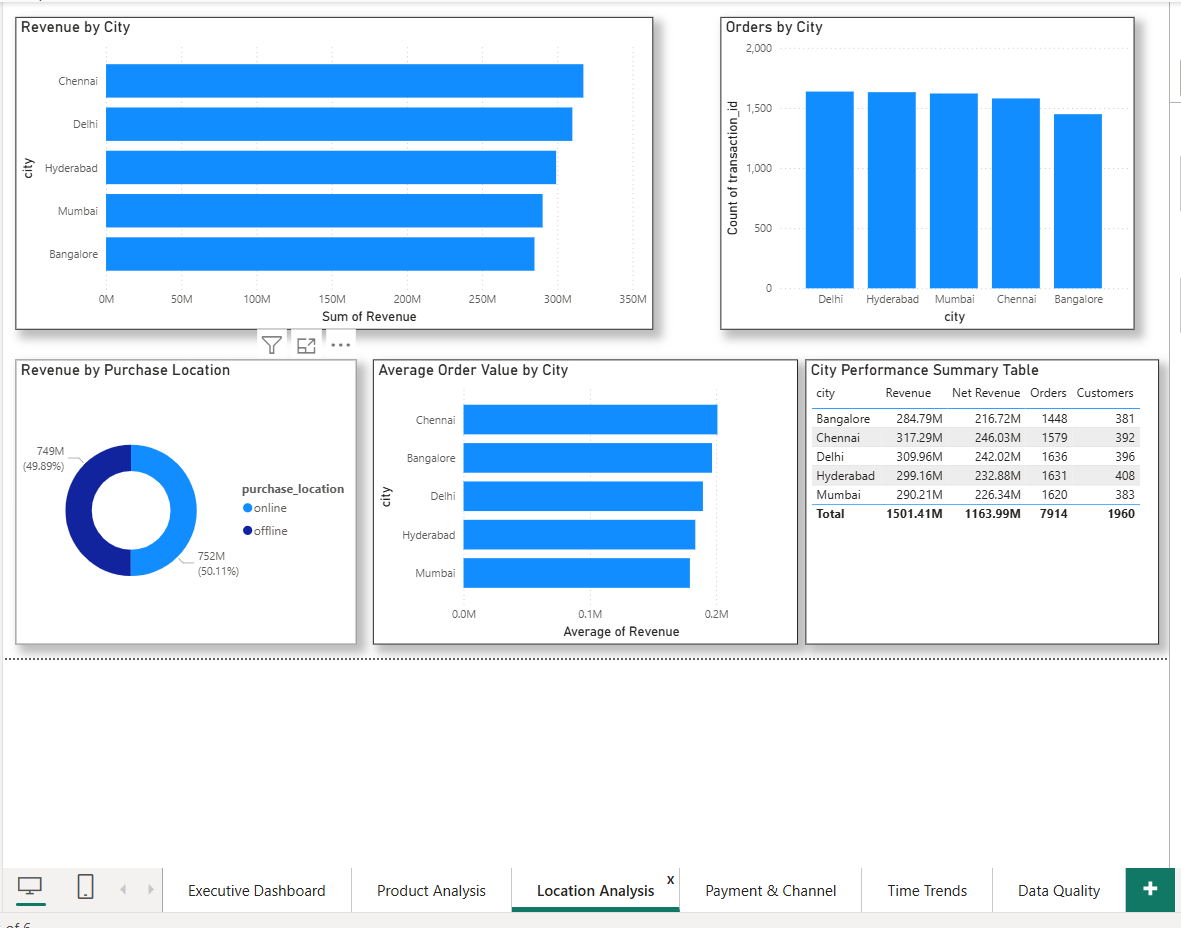

This screenshot's page, from the dashboard's own definition file:
{"tool":"powerbi","page":{"name":"Location Analysis","canvas":[1280,720],"ordinal":2},"visuals":[{"type":"clusteredBarChart","title":"Revenue by City","fields":{"Category":["retail_master_curated.city"],"Y":["Sum(retail_master_curated.Revenue)"]},"box":[13.7,16.5,699.8,343.1],"z":0},{"type":"clusteredColumnChart","title":"Orders by City","fields":{"Category":["retail_master_curated.city"],"Y":["Count(retail_master_curated.transaction_id)"]},"box":[787.7,16.5,454.2,343.1],"z":1000},{"type":"donutChart","title":"Revenue by Purchase Location","fields":{"Category":["retail_master_curated.purchase_location"],"Y":["Sum(retail_master_curated.Revenue)"]},"box":[13.7,392.5,374.6,312.9],"z":2000},{"type":"clusteredBarChart","title":"Average Order Value by City","fields":{"Category":["retail_master_curated.city"],"Y":["Avg(retail_master_curated.Revenue)"]},"box":[406.2,392.5,466.6,312.9],"z":3000},{"type":"tableEx","title":"City Performance Summary Table","fields":{"Values":["retail_master_curated.city","Sum(retail_master_curated.Revenue)","Sum(retail_master_curated.Net_Revenue)","Count(retail_master_curated.transaction_id)","retail_master_curated.customer_id"]},"box":[881,392.5,388.3,312.9],"z":4000}]}

Visuals, with their boxes in screenshot pixels (x1, y1, x2, y2):
"Revenue by City" clusteredBarChart: select_region(12, 15, 649, 327)
"Orders by City" clusteredColumnChart: select_region(717, 15, 1130, 327)
"Revenue by Purchase Location" donutChart: select_region(12, 357, 353, 642)
"Average Order Value by City" clusteredBarChart: select_region(370, 357, 794, 642)
"City Performance Summary Table" tableEx: select_region(802, 357, 1155, 642)
